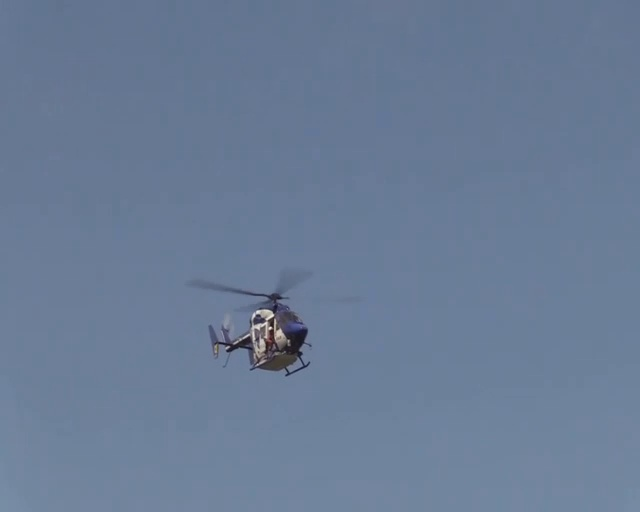HELICOPTER: (184, 267, 314, 376)
